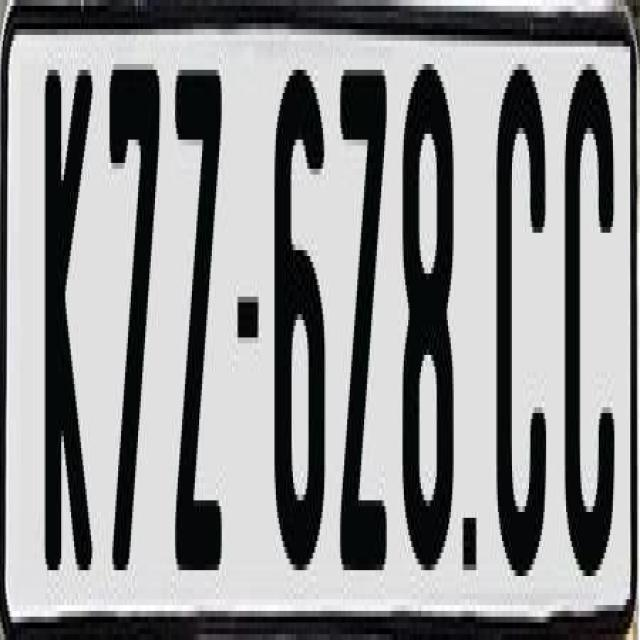6: (273, 52, 326, 582)
7: (106, 52, 164, 582)
8: (402, 64, 460, 605)
C: (493, 64, 548, 605), (562, 58, 612, 599)
K: (44, 64, 94, 570)
Z: (175, 70, 228, 588), (338, 58, 389, 588)
